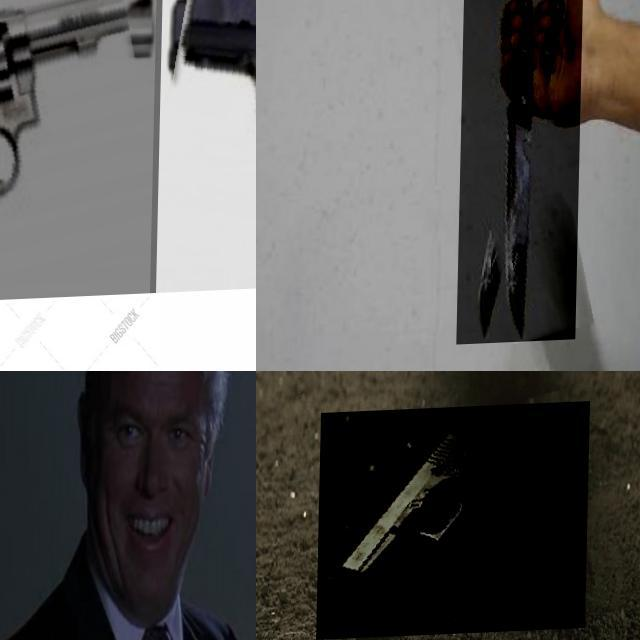-: (458, 0, 583, 347)
gun-knife-thesis - v11 Yolov5 augmented: (317, 405, 590, 640), (0, 0, 162, 307), (151, 0, 256, 296)
